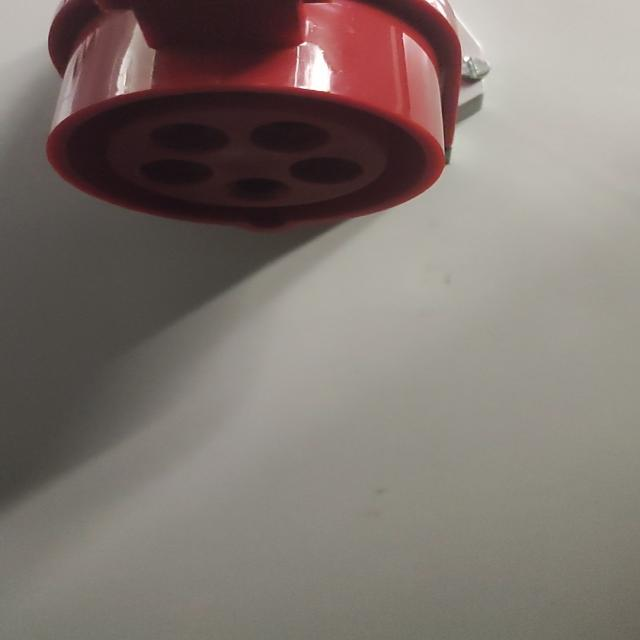400v socket down: (44, 0, 489, 236)
